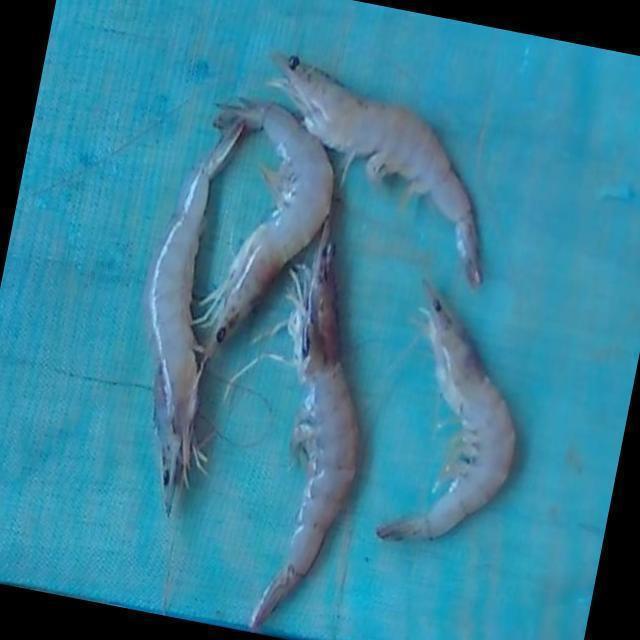shrimp: (276, 57, 482, 287), (250, 219, 358, 632), (145, 121, 244, 515), (376, 283, 516, 541), (198, 104, 333, 361)
